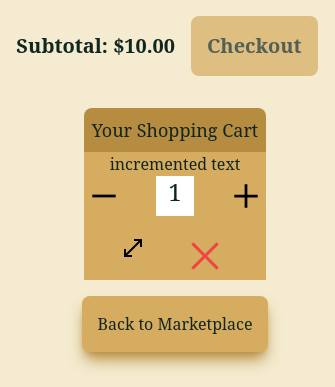
Test case: Cart increments and decrements itemsAmount and adjusts price accordingly › Item amount goes up when pressing the increment button
Check: the text with test id "amount.default" reads "1", box [168,175,182,208]
Step 1. Click the button named "increment.default" → [246, 196], box [226,176,266,216]
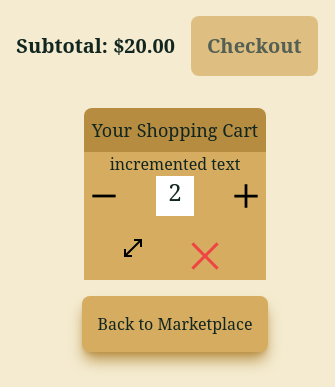
Check: the text with test id "amount.default" reads "2", box [168,175,182,208]
